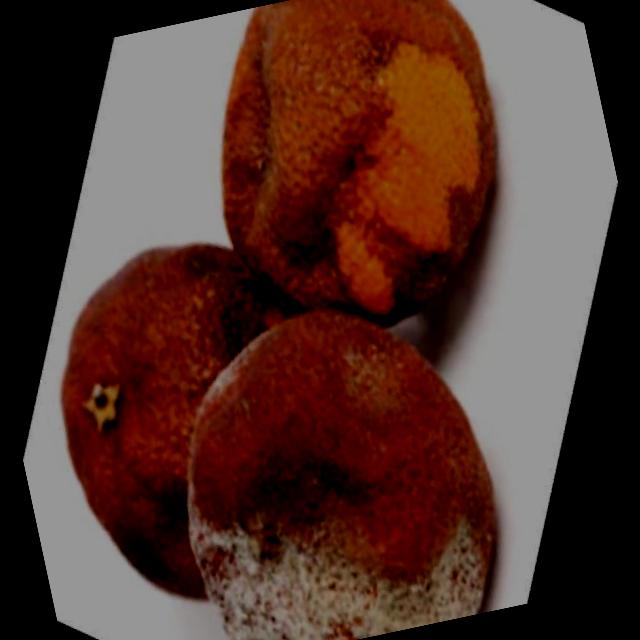Orange: (145, 278, 518, 640), (29, 220, 349, 620), (181, 0, 532, 353)
